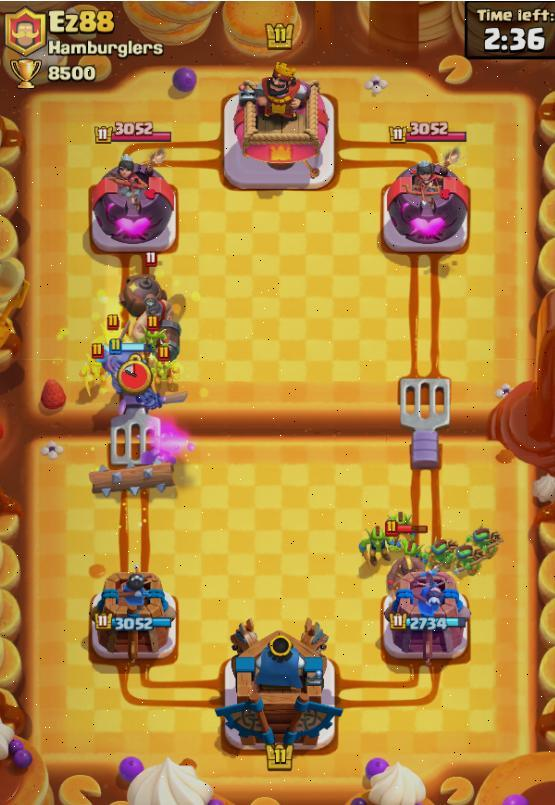EGoblin: (105, 314, 125, 350), (153, 357, 175, 387), (82, 359, 106, 386), (142, 328, 166, 351)
EHogRider: (386, 557, 423, 590)
EKingTower: (223, 63, 335, 189)
EMightyMiner: (120, 273, 183, 339)
EnemyPrincessTower: (90, 154, 175, 253), (382, 162, 469, 253)
OBigPekka: (103, 349, 156, 410)
OGoblin: (359, 525, 391, 570), (401, 539, 426, 560)
OSpearGoblin: (467, 527, 500, 561), (453, 543, 482, 577), (429, 539, 457, 571)
OwnKingTower: (216, 620, 341, 750)
OwnPrincessTower: (382, 571, 470, 662), (89, 573, 176, 662)
